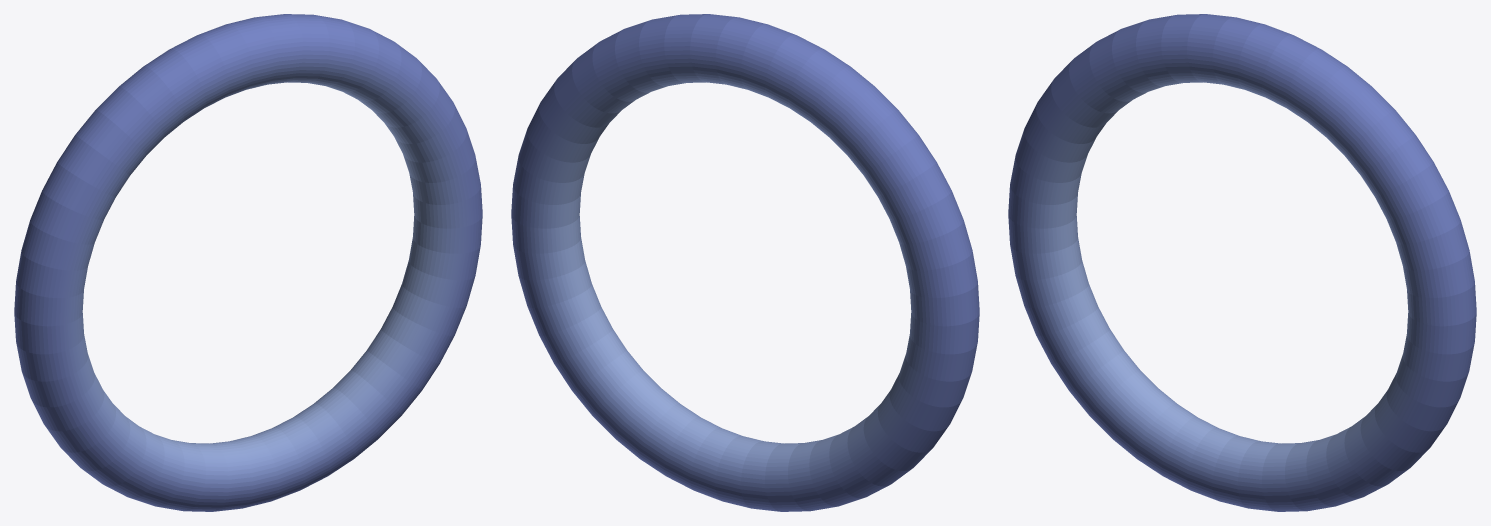
3 views of the same model, side by side, from view 1: azimuth 30°, elevation 25°; view 2: azimuth 150°, elevation 25°; view 3: azimuth 330°, elevation 25° (orthographic).
Parts seen in each view (by area): view 1: world; view 2: world; view 3: world.
Part boxes in pixels (left/top/right/bottom): world: left=14, top=14, right=482, bottom=511; world: left=511, top=14, right=979, bottom=511; world: left=1008, top=14, right=1476, bottom=511.
Bounding box in the file's own units: 23.73 × 23.69 × 3.06.
